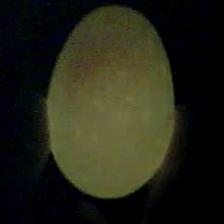infertile: (44, 4, 178, 198)
